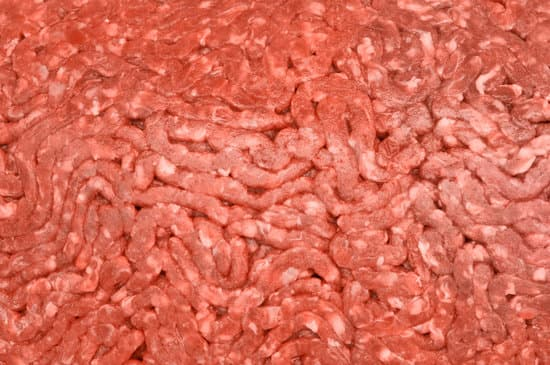ground_beef: (34, 15, 514, 354)
